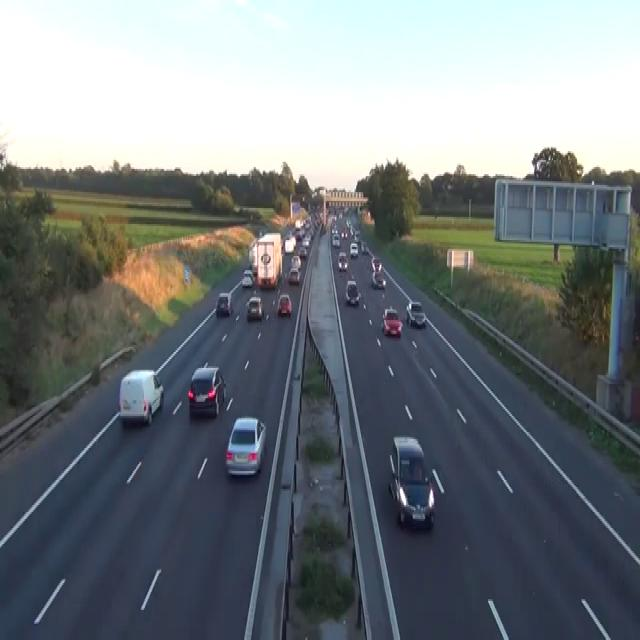Car: (388, 434, 435, 530), (118, 368, 164, 425), (225, 416, 266, 476), (187, 361, 226, 418), (381, 306, 402, 336), (405, 301, 426, 327), (245, 295, 263, 320), (215, 292, 233, 316), (345, 279, 360, 306), (276, 294, 292, 316), (371, 270, 386, 288), (241, 268, 253, 286), (337, 251, 348, 270), (288, 266, 300, 282), (371, 256, 381, 272), (290, 254, 301, 268), (349, 242, 358, 258), (332, 233, 340, 247), (299, 245, 307, 258), (361, 240, 369, 252), (319, 222, 326, 235), (258, 226, 267, 236), (301, 238, 309, 247), (295, 219, 301, 229), (291, 235, 296, 247), (354, 230, 360, 238), (341, 230, 347, 238)
Truck: (248, 231, 283, 288)
